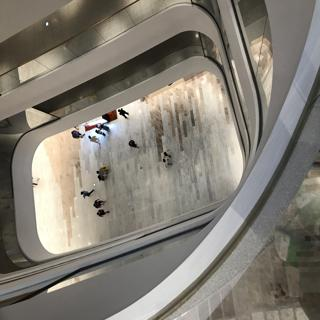person: (73, 188, 105, 200), (85, 132, 107, 149), (120, 138, 149, 150), (95, 208, 117, 218)
